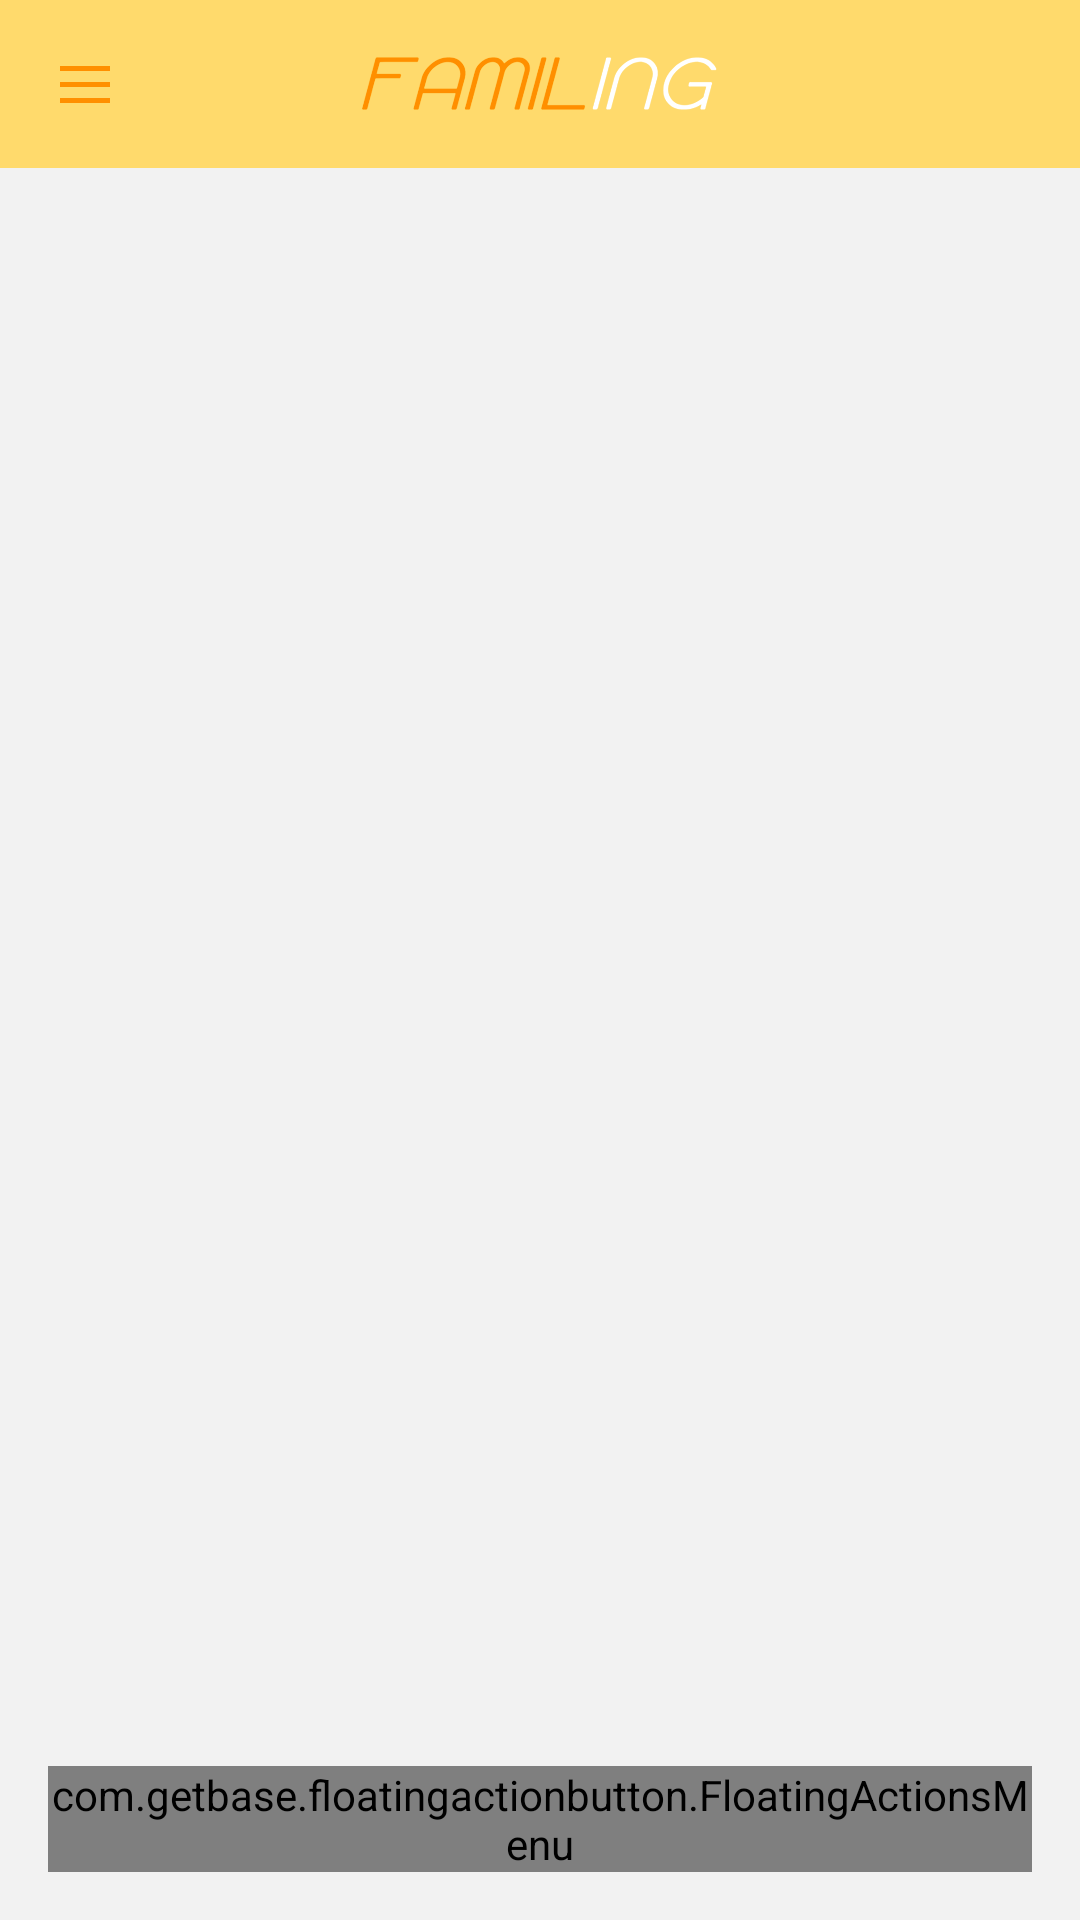

Icons on this 1080px×1920px Android screen, each with its box as (x1, y1, x2, y2):
sideopen: (60, 66, 110, 103)
